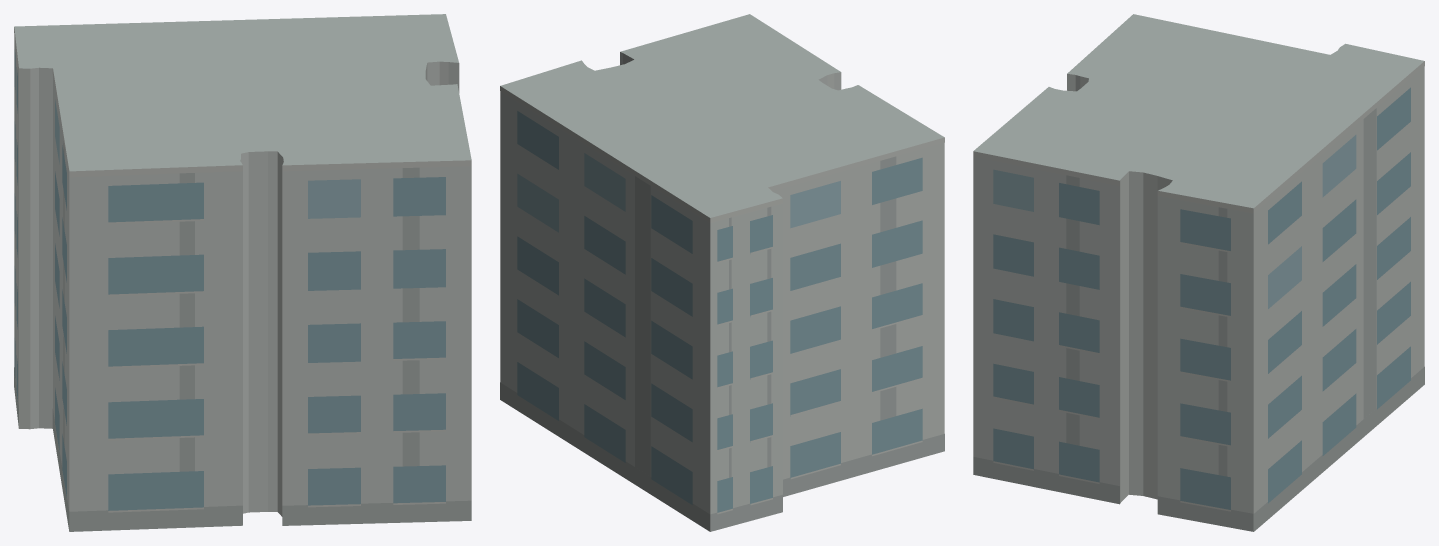
File: survey-upis-32886219.glb
3 renders of one model, left to right at view 1: azimuth 30°, elevation 25°; view 2: azimuth 150°, elevation 25°; view 3: azimuth 270°, elevation 25°, orthographic. The views are drawn at different scales.
Parts seen in each view (by area): view 1: survey-upis-32886219.tmp; view 2: survey-upis-32886219.tmp; view 3: survey-upis-32886219.tmp.
Boxes of the visible parts, box(x1,y1,x2,y2) form: survey-upis-32886219.tmp: box(14, 14, 471, 531); survey-upis-32886219.tmp: box(500, 14, 944, 531); survey-upis-32886219.tmp: box(973, 14, 1424, 531).
Size of the model in its own units: 19.01 by 14.75 by 18.66.
